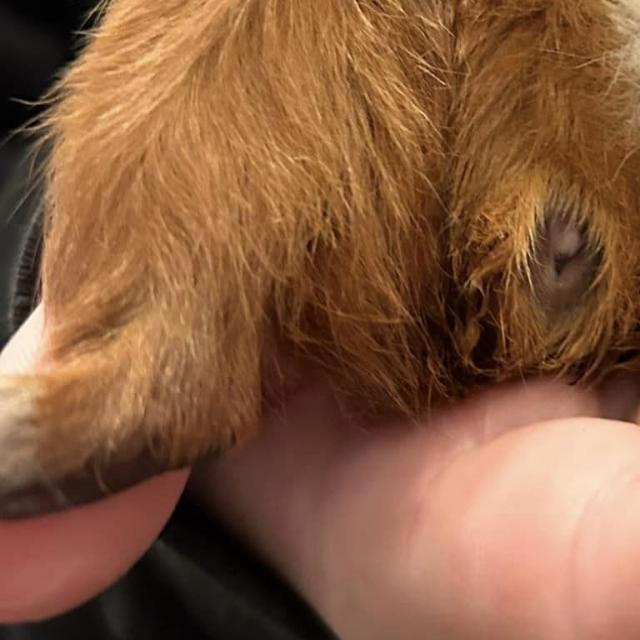fem: (522, 206, 608, 341)
